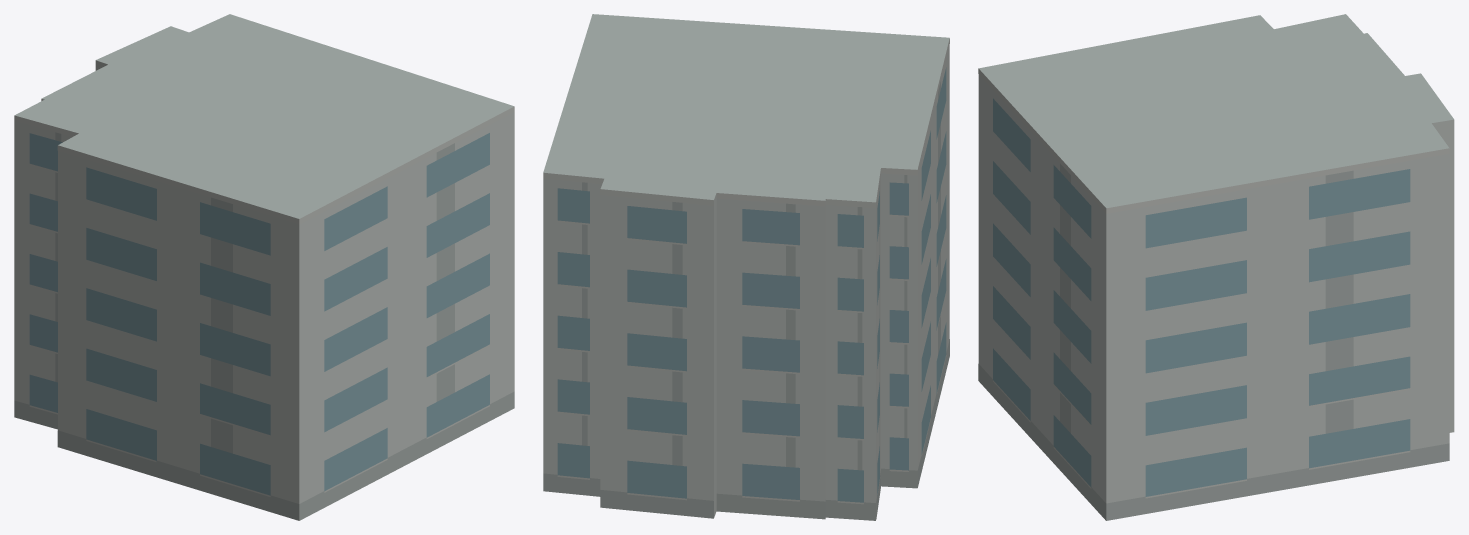
The model's file is survey-upis-32809415.glb.
The picture shows the model from 3 angles, left to right: view 1: azimuth 30°, elevation 25°; view 2: azimuth 150°, elevation 25°; view 3: azimuth 270°, elevation 25°; orthographic projection. The views are drawn at different scales.
Parts seen in each view (by area): view 1: survey-upis-32809415.tmp; view 2: survey-upis-32809415.tmp; view 3: survey-upis-32809415.tmp.
Boxes of the visible parts, <box> form: survey-upis-32809415.tmp: <box>14,14,514,520</box>; survey-upis-32809415.tmp: <box>543,14,949,520</box>; survey-upis-32809415.tmp: <box>978,14,1454,520</box>.
Bounding box in the file's own units: 18.13 × 13.59 × 18.76.
